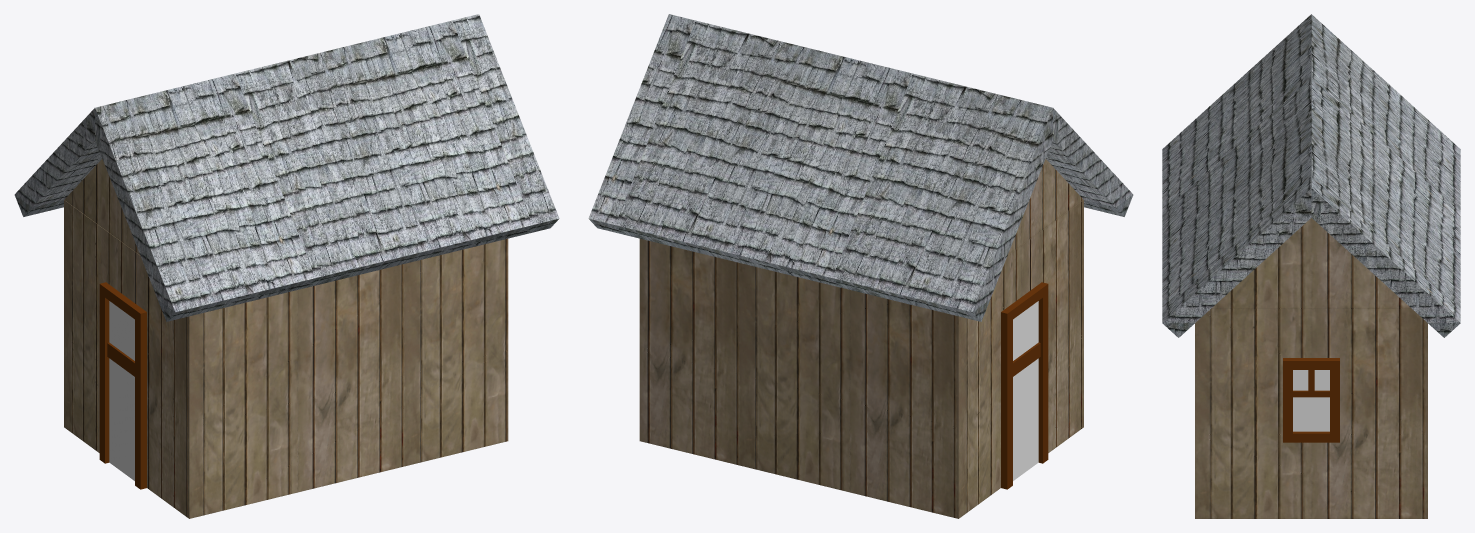
The model's file is Tiny_Building.glb.
3 views of the same model, side by side, from view 1: azimuth 30°, elevation 25°; view 2: azimuth 150°, elevation 25°; view 3: azimuth 270°, elevation 25° (orthographic). The views are drawn at different scales.
Parts seen in each view (by area): view 1: mergedBlocks(Clone); view 2: mergedBlocks(Clone); view 3: mergedBlocks(Clone).
Part boxes in pixels (x1,y1,x2,y2): mergedBlocks(Clone): (14,14,559,518); mergedBlocks(Clone): (588,14,1133,518); mergedBlocks(Clone): (1162,14,1460,518).
Bounding box in the file's own units: 1.77 × 1.64 × 1.28.
Materials: 5 (2 with a texture image).
